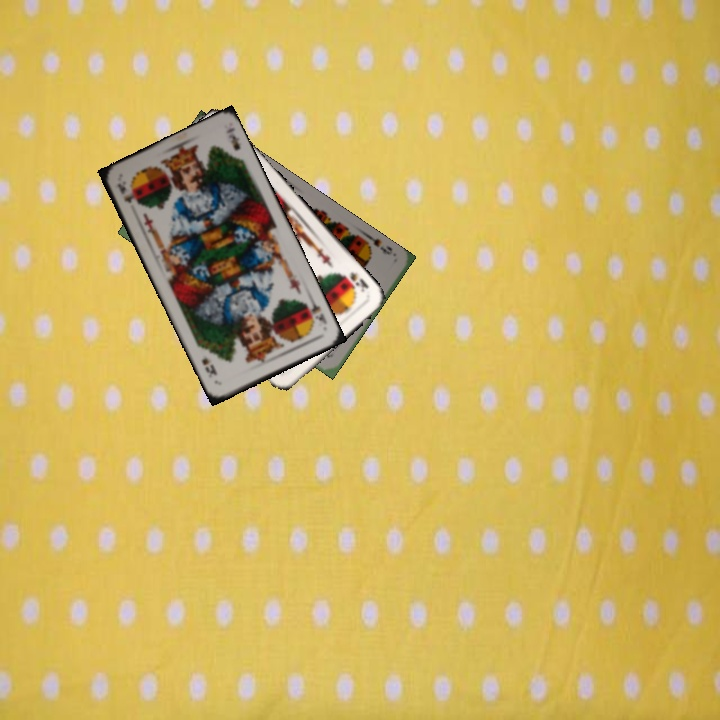S9: (359, 230, 398, 258)
SK: (301, 295, 329, 327), (339, 268, 371, 295), (113, 179, 140, 208)
